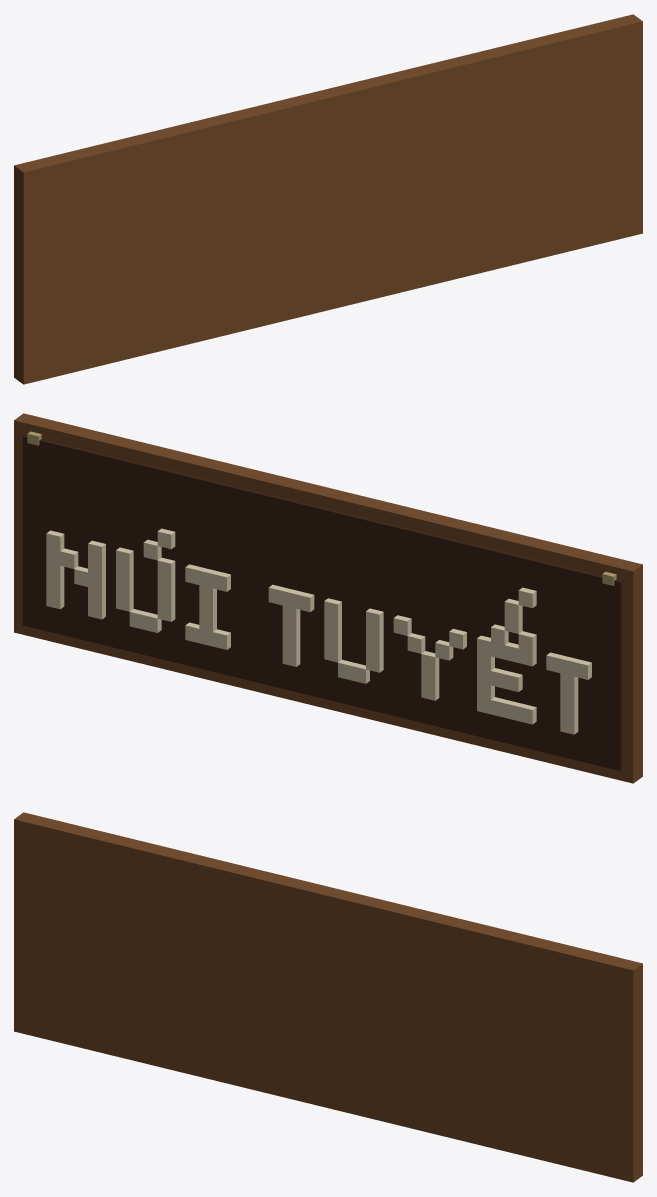
File: tt-sign-nui-tuyet.glb
The picture shows the model from 3 angles, top to bottom: view 1: azimuth 30°, elevation 25°; view 2: azimuth 150°, elevation 25°; view 3: azimuth 330°, elevation 25°; orthographic projection.
Parts seen in each view (by area): view 1: box-prop; view 2: box-prop; view 3: box-prop.
Boxes of the visible parts, x1,y1,x2,y2 form: box-prop: (14, 14, 642, 384); box-prop: (14, 413, 642, 783); box-prop: (14, 812, 642, 1182).
Bounding box in the file's own units: 4.46 × 1.46 × 0.2.
